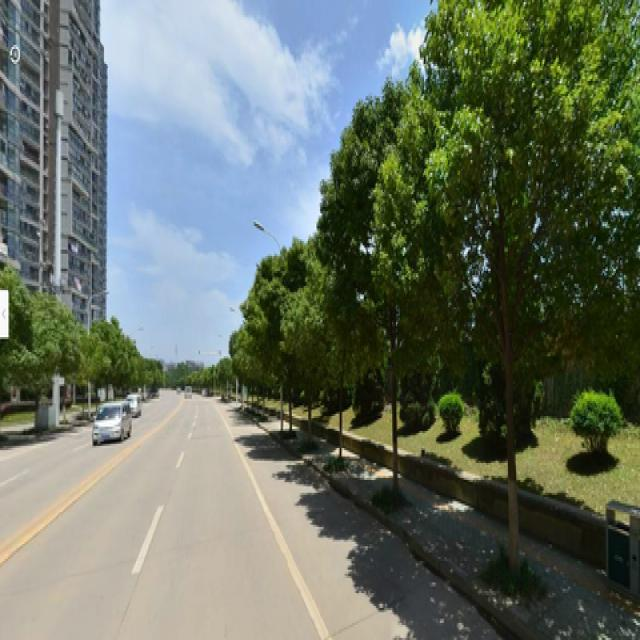cinn: (432, 38, 620, 584), (336, 136, 427, 495)
